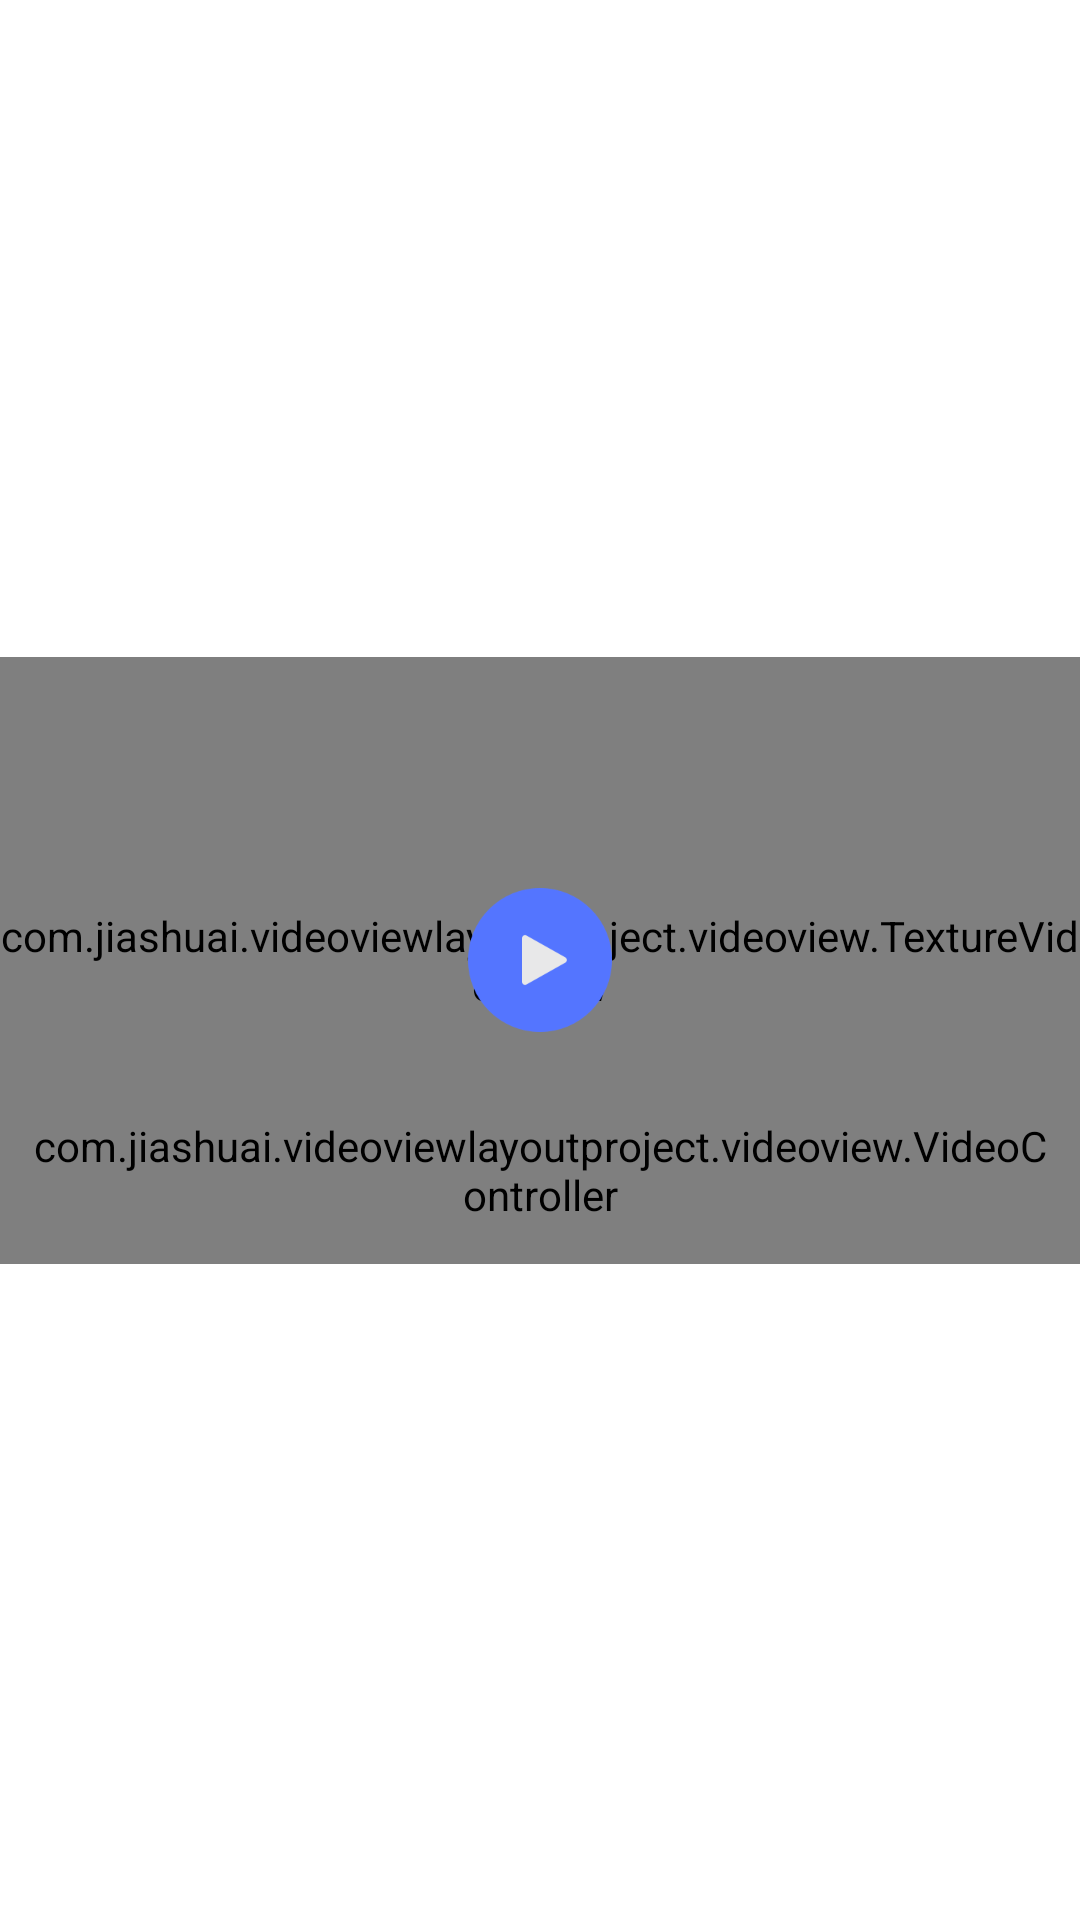

Locate icon controls on the screen. Image size 1080x1920, boxes as bbox=[x1, y1, x2, y2].
project contribute play: bbox=[468, 888, 612, 1032]
